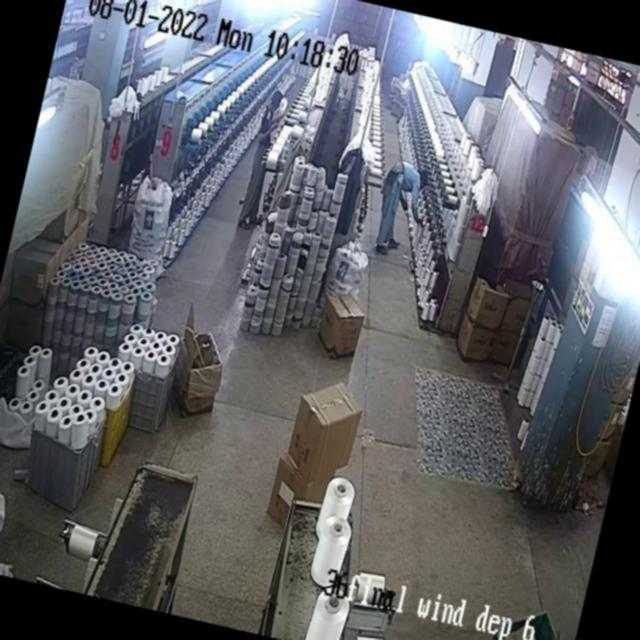person: (237, 86, 284, 230), (374, 160, 429, 246)
